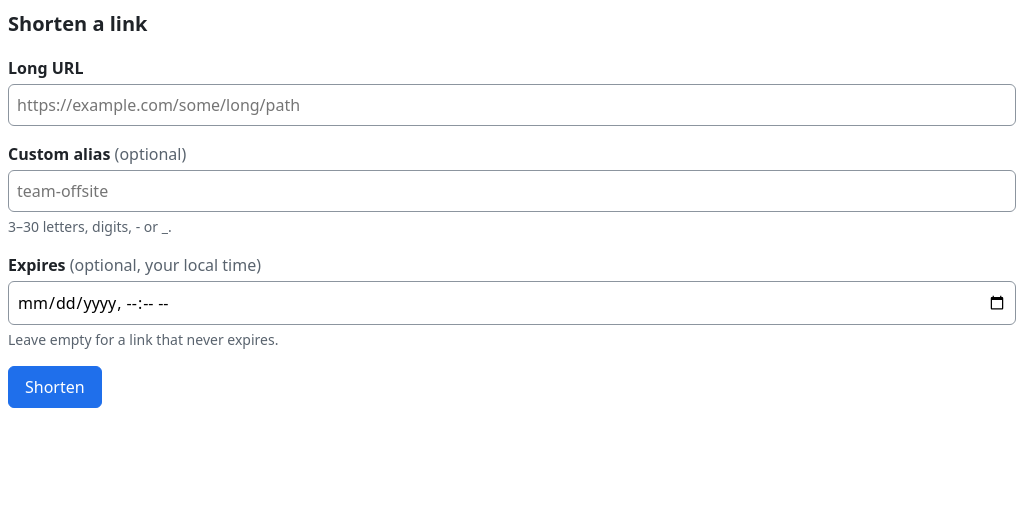
Test: CreateLinkForm › shows field errors next to their fields, keeps the input and focuses the first one
Step 1. Type "javascript:alert(1)" into the field labelled "Long URL" → [512, 105], box [8,84,1016,126]
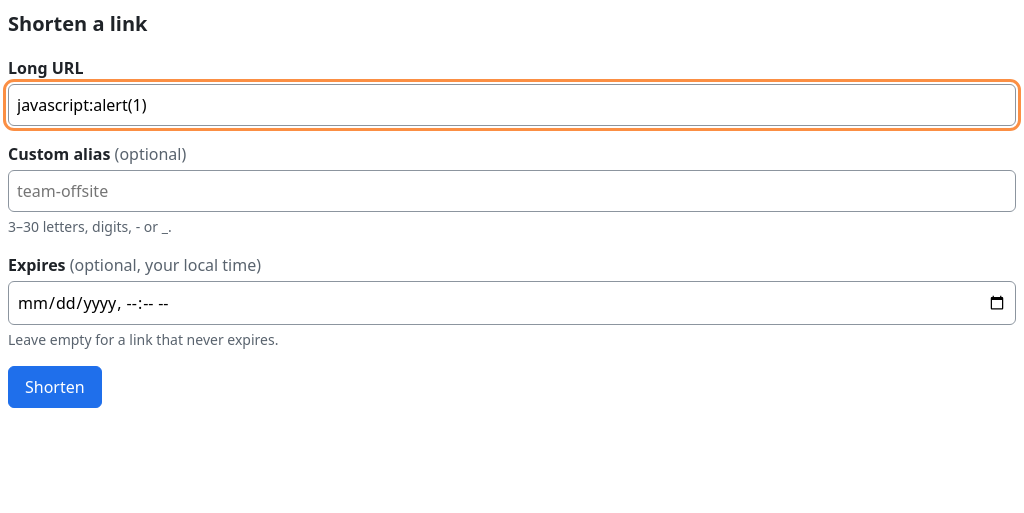
Step 2. Type "api" into the field labelled "Custom alias (optional)" → [512, 191], box [8,170,1016,212]
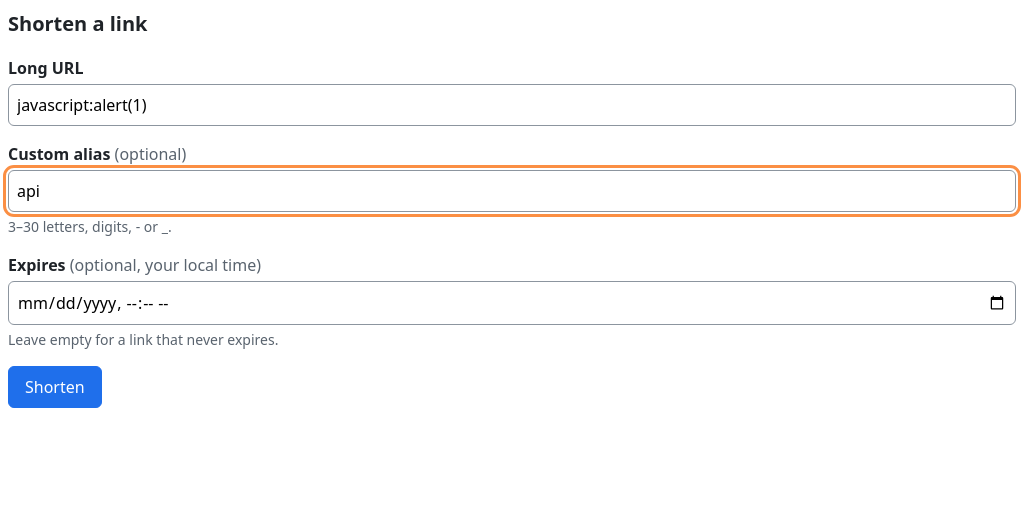
Step 3. Click the button "Shorten" → [55, 387], box [8,366,102,408]
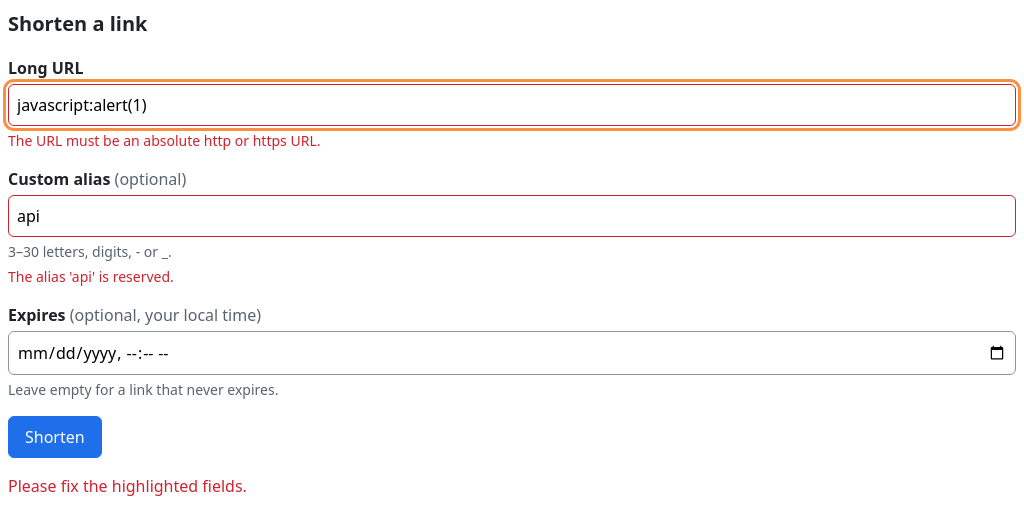
Expected: the text "The URL must be an absolute http or https URL." is shown, [8,131,320,150]
Expected: the text "The alias 'api' is reserved." is shown, [8,267,174,286]
